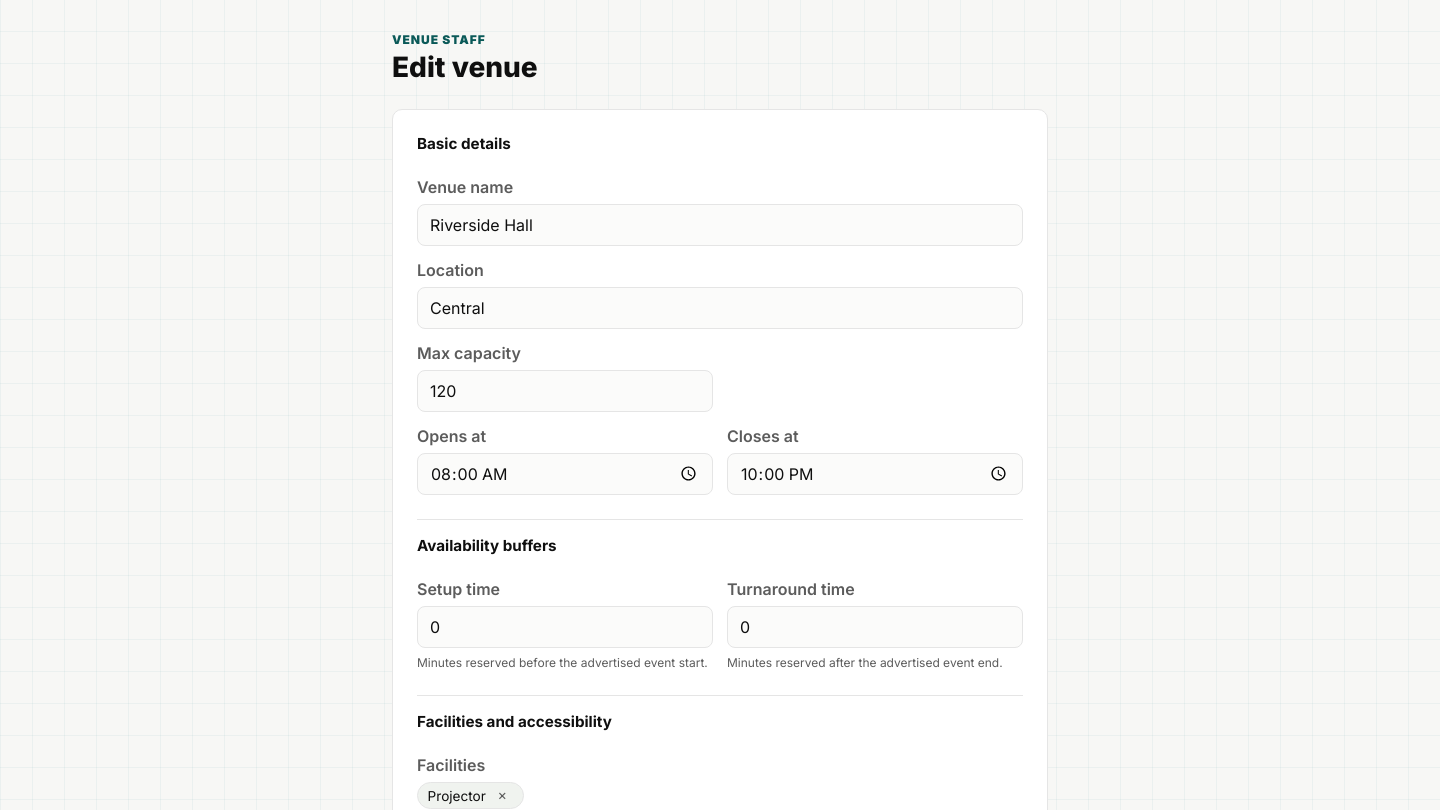
Test: TC_E05S05_01: staff save buffer values and see them on the venue inventory detail
Check: the number field labelled "Turnaround time" holds "0", box left=727, top=606, right=1023, bottom=648
Replace the text in the number field labelled "Setup time" with "30" at (565, 627), box left=417, top=606, right=713, bottom=648
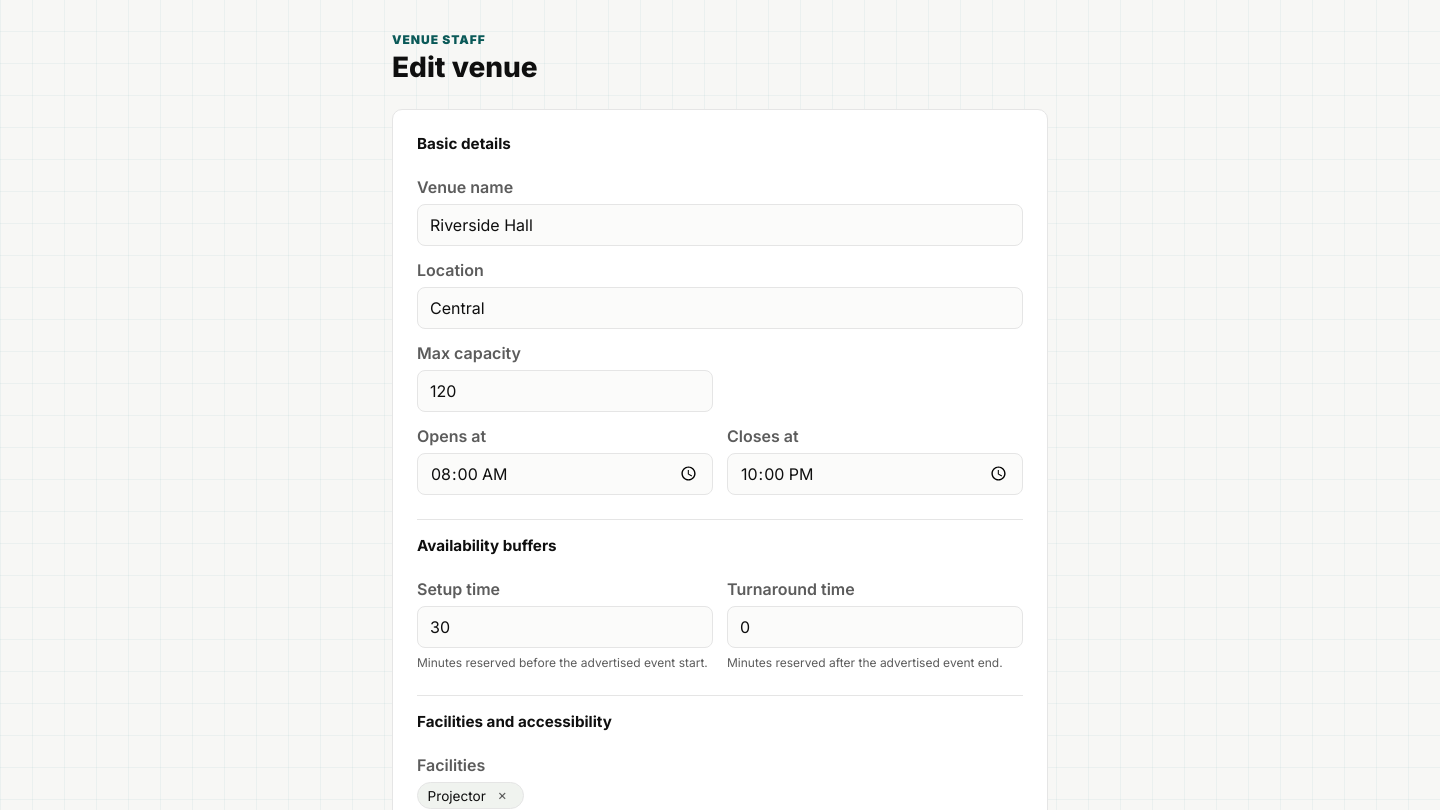
Replace the text in the number field labelled "Turnaround time" with "45" at (875, 627), box left=727, top=606, right=1023, bottom=648
(page scrolled)
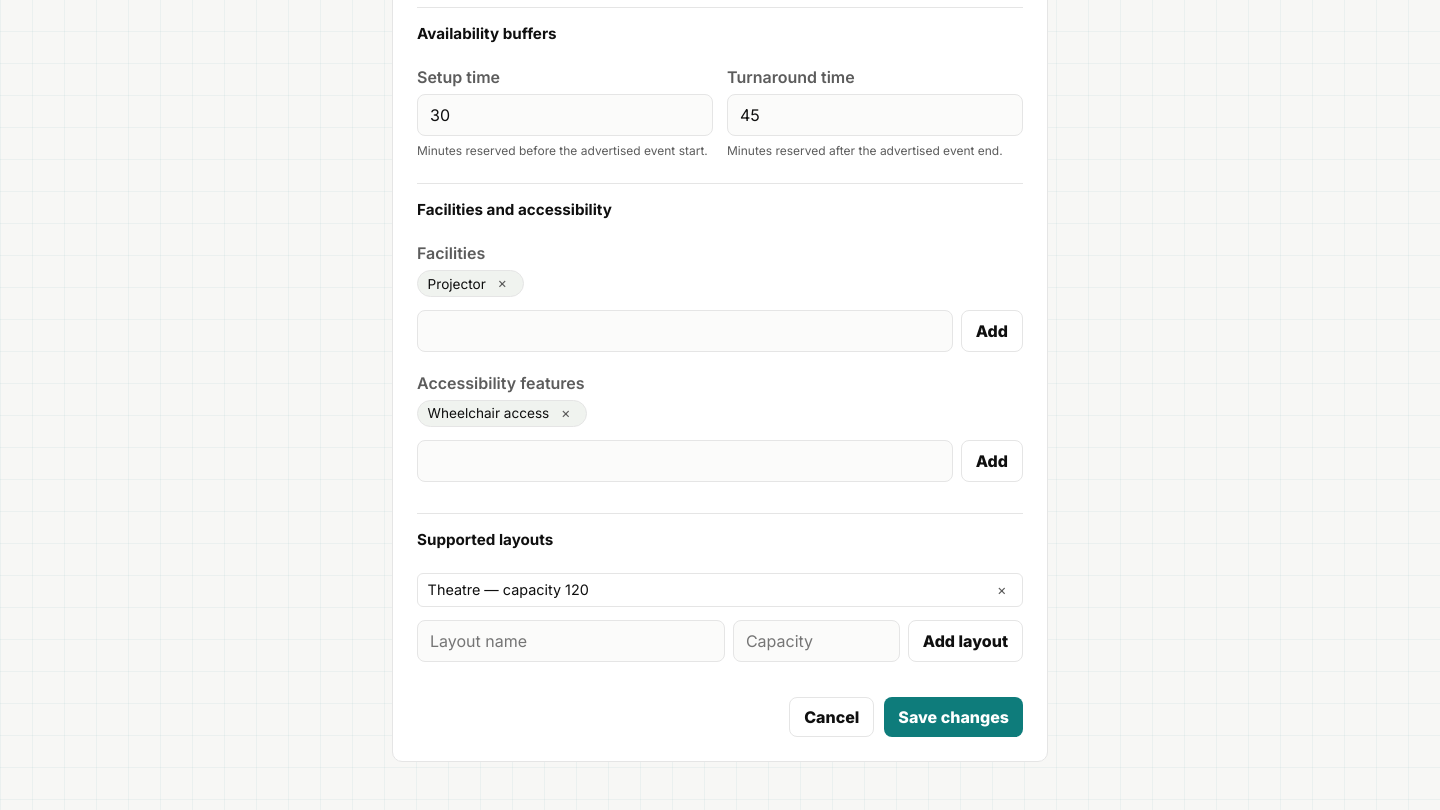
Click the button "Save changes".
click(954, 717)  # box left=884, top=697, right=1023, bottom=737
(page scrolled)
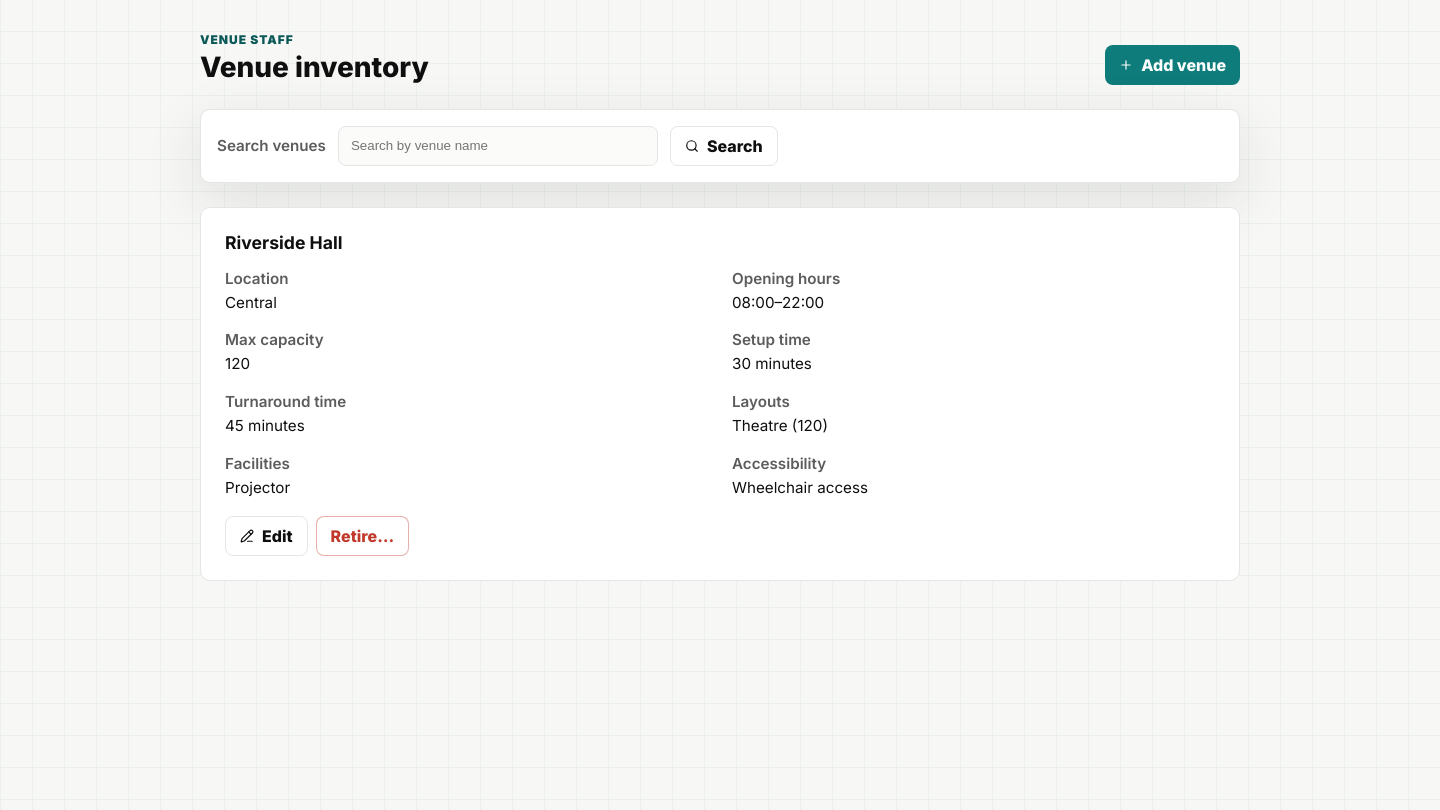
Check: the heading "Venue inventory" is shown, box left=200, top=51, right=429, bottom=85
Check: the text "30 minutes" is shown, box left=732, top=354, right=812, bottom=373
Check: the text "45 minutes" is shown, box left=225, top=416, right=305, bottom=435
